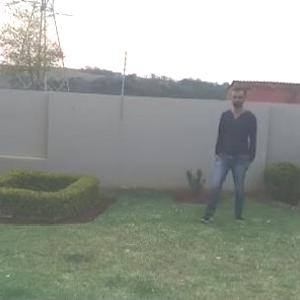follow: (213, 84, 258, 224)
